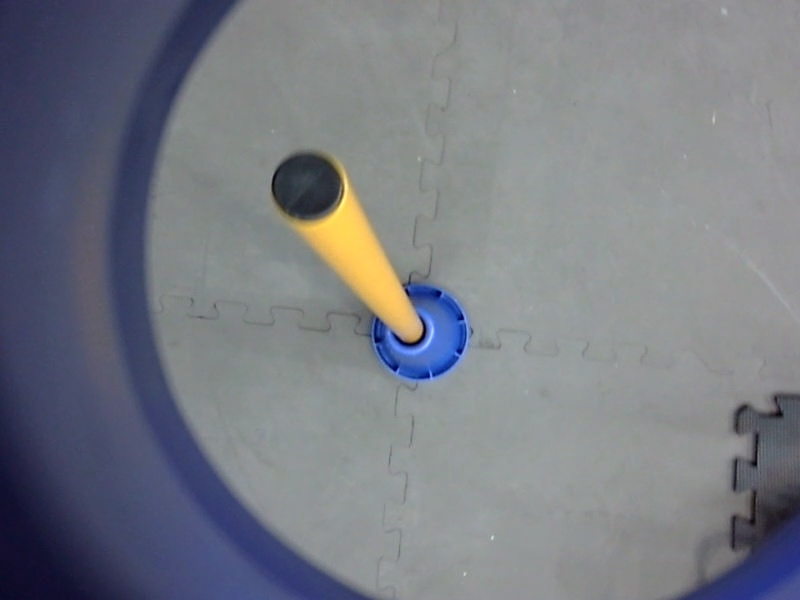tip: (261, 145, 351, 232)
